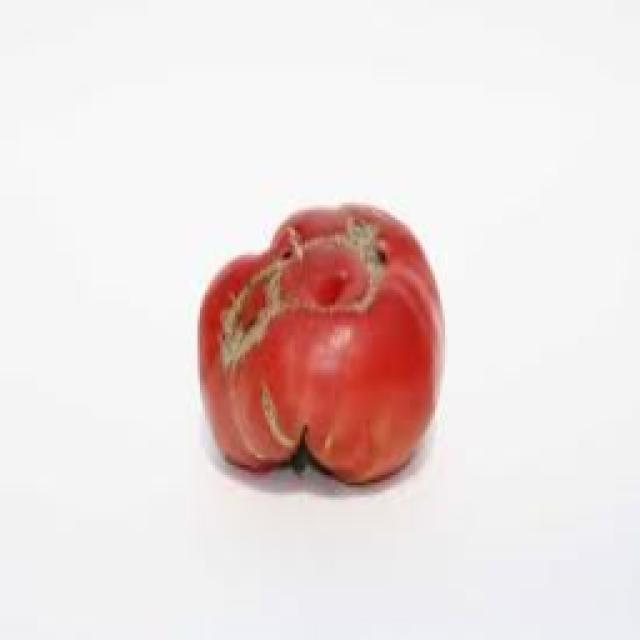Wet Waste: (189, 187, 466, 501)
